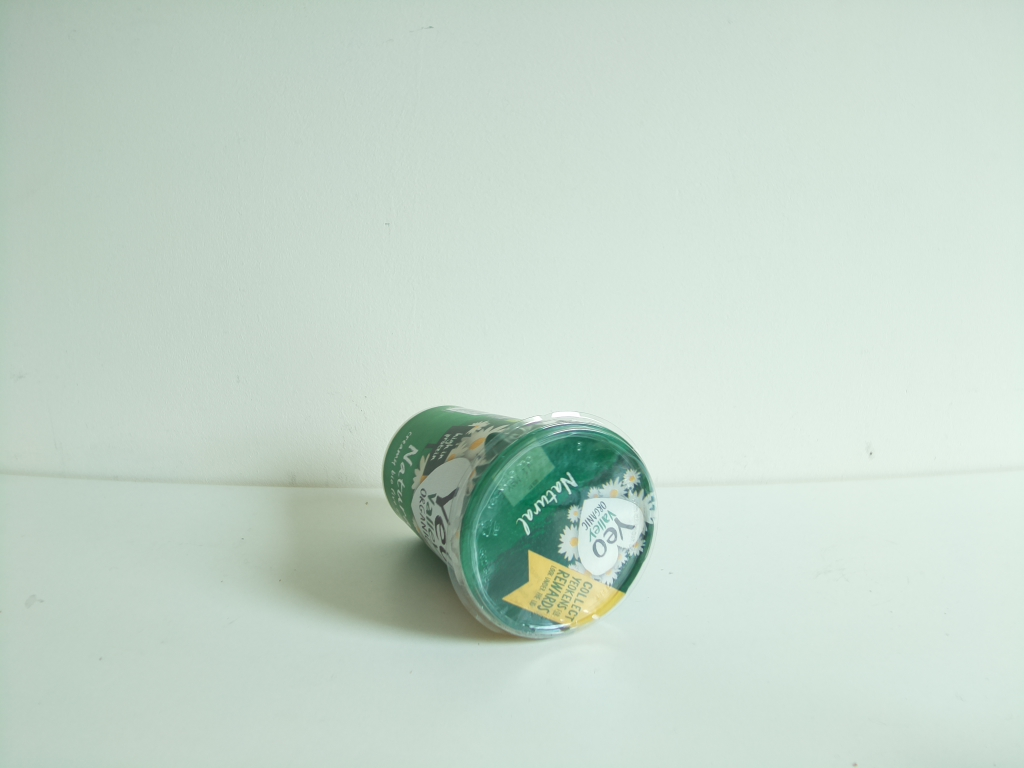yogurt: (368, 401, 666, 652)
